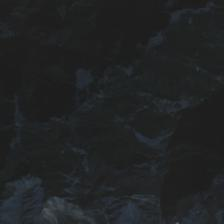landslides: (127, 194, 159, 205), (21, 175, 36, 194), (61, 174, 85, 185), (127, 202, 135, 224), (110, 195, 126, 204), (104, 204, 110, 224), (161, 215, 175, 223)
